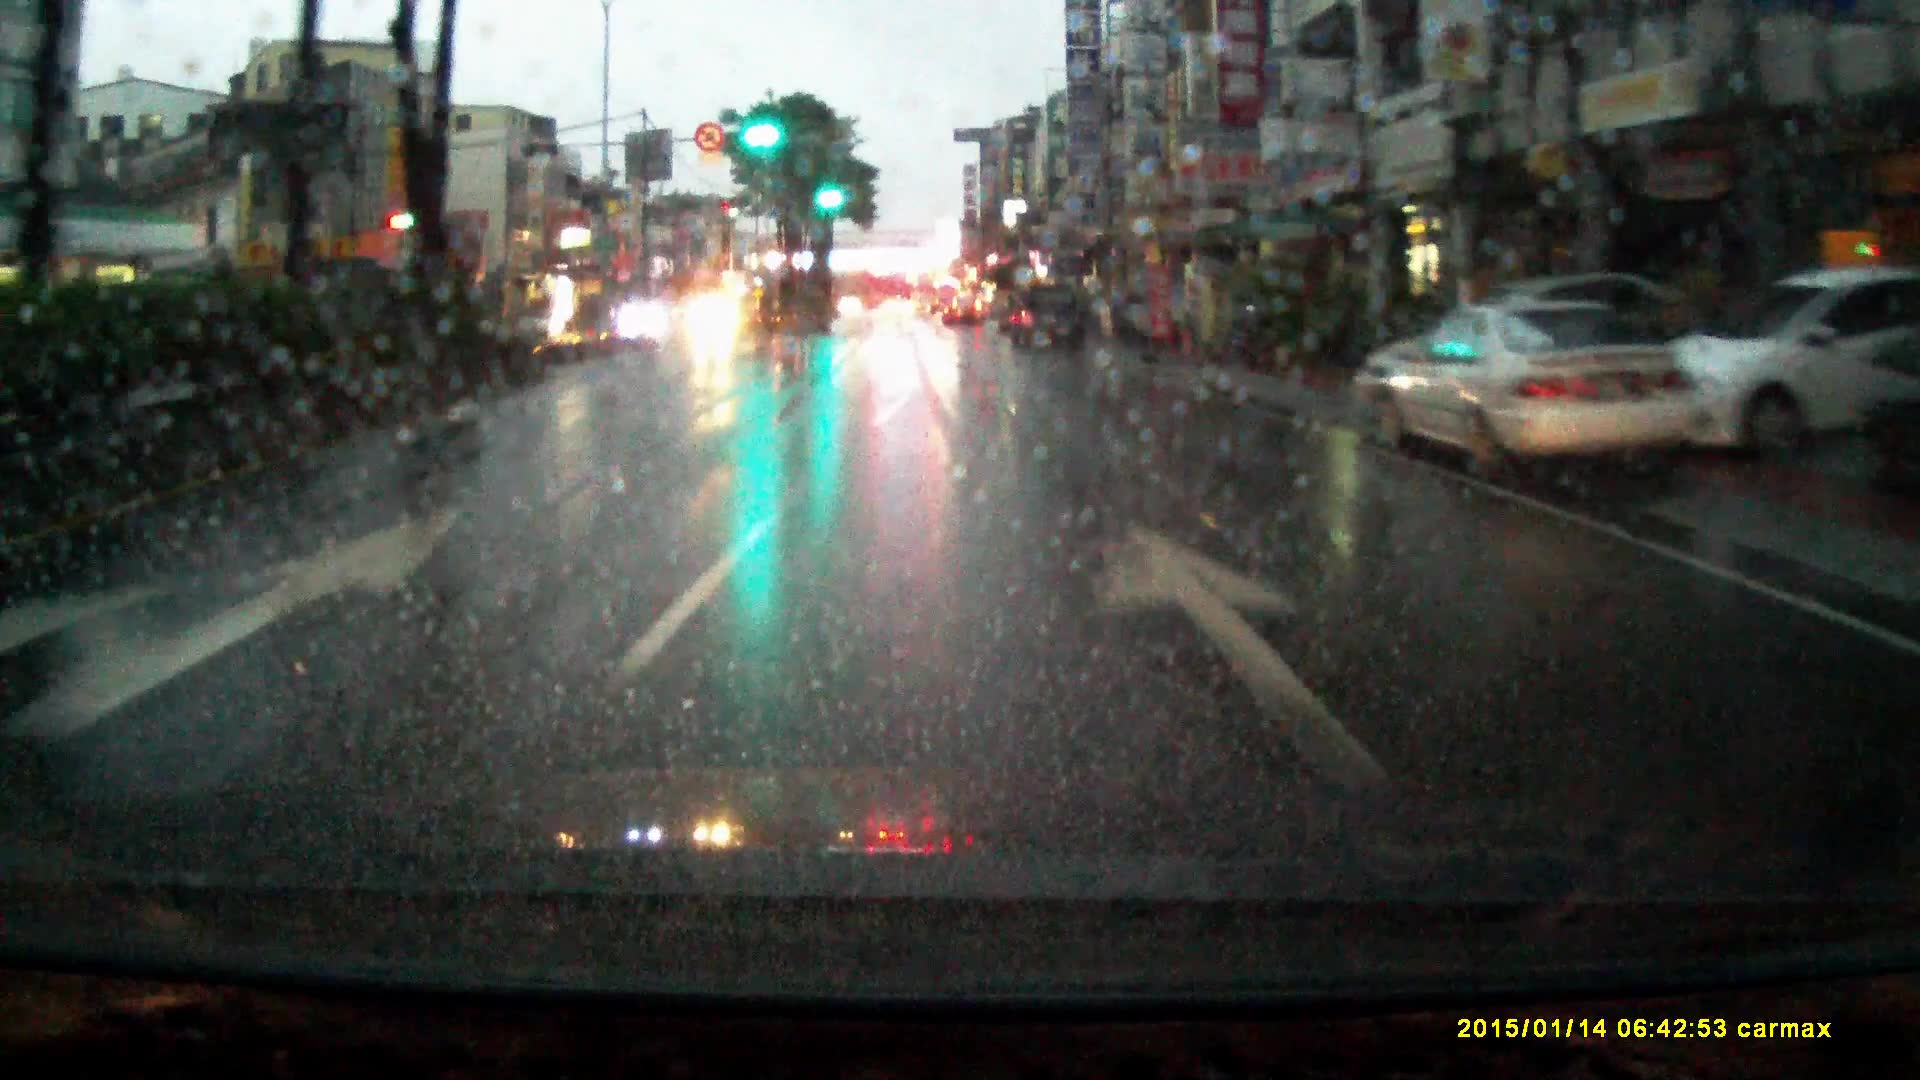vehicle: (1375, 303, 1724, 491), (1679, 270, 1894, 472), (1011, 284, 1091, 357), (680, 298, 746, 351), (615, 305, 669, 345), (913, 272, 943, 320), (943, 295, 982, 328), (882, 299, 918, 323)
